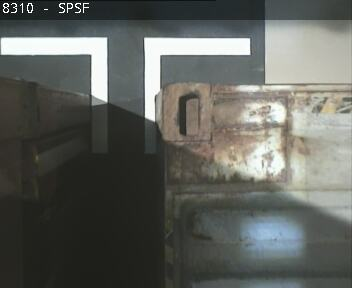groundmarker_1: (3, 36, 249, 152)
